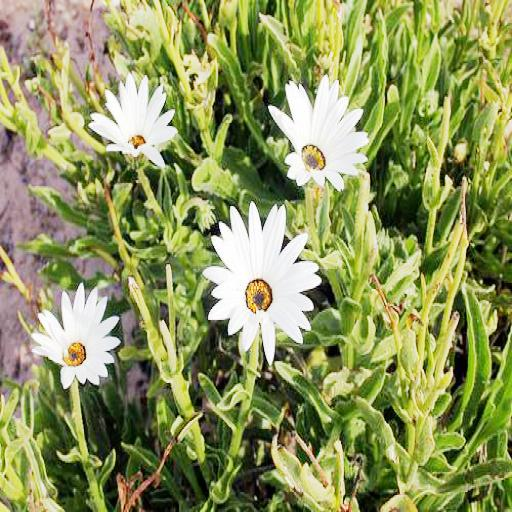daisy: (216, 216, 310, 348), (276, 86, 360, 186), (37, 297, 116, 383), (95, 85, 172, 155)
